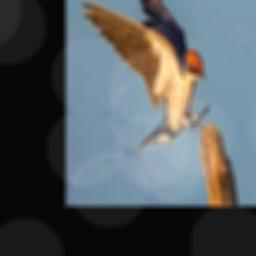Swallow: (79, 0, 210, 165)
